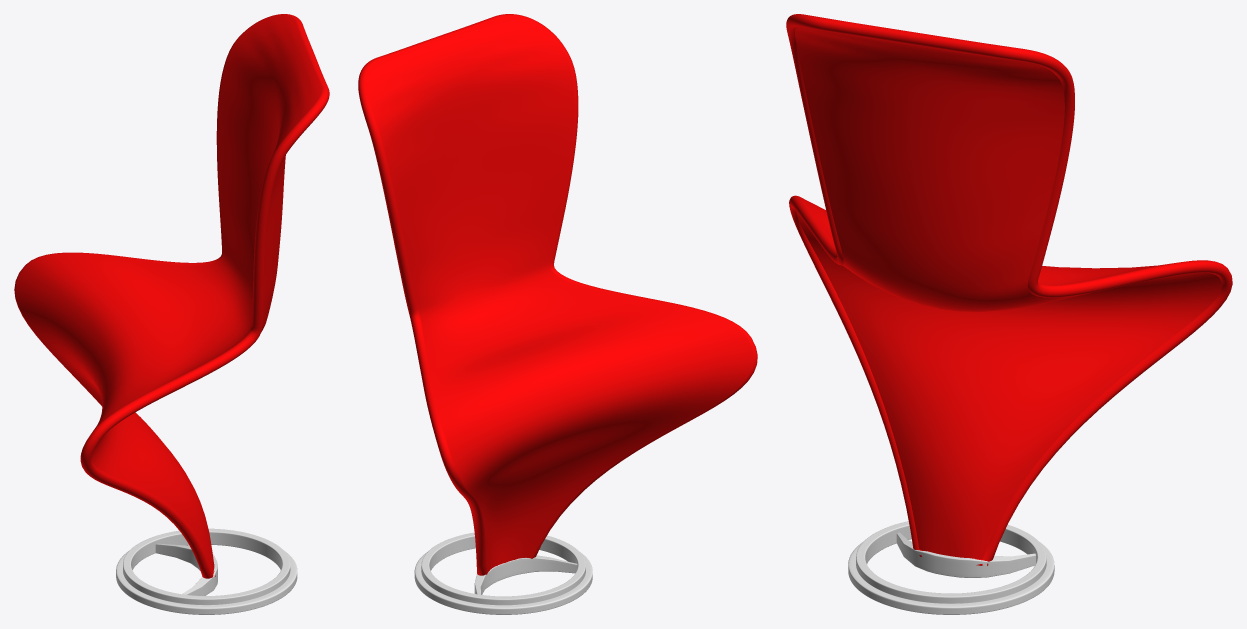
Rendered from char.FBX.
3 renders of one model, left to right at view 1: azimuth 30°, elevation 25°; view 2: azimuth 150°, elevation 25°; view 3: azimuth 270°, elevation 25°, orthographic. The views are drawn at different scales.
Visible parts, largest first — view 1: Line01, Tube01, ChamferBox01; view 2: Line01, Tube01, ChamferBox01; view 3: Line01, Tube01, ChamferBox01.
Part boxes in pixels (x1=…): Line01: x1=14, y1=14, x2=329, y2=578; Tube01: x1=116, y1=528, x2=297, y2=614; ChamferBox01: x1=155, y1=543, x2=217, y2=595; Line01: x1=358, y1=14, x2=757, y2=575; Tube01: x1=414, y1=532, x2=592, y2=614; ChamferBox01: x1=474, y1=555, x2=577, y2=594; Line01: x1=786, y1=14, x2=1232, y2=565; Tube01: x1=848, y1=521, x2=1054, y2=614; ChamferBox01: x1=896, y1=532, x2=1035, y2=577.
Size of the model in its own units: 758 by 1217 by 839.
